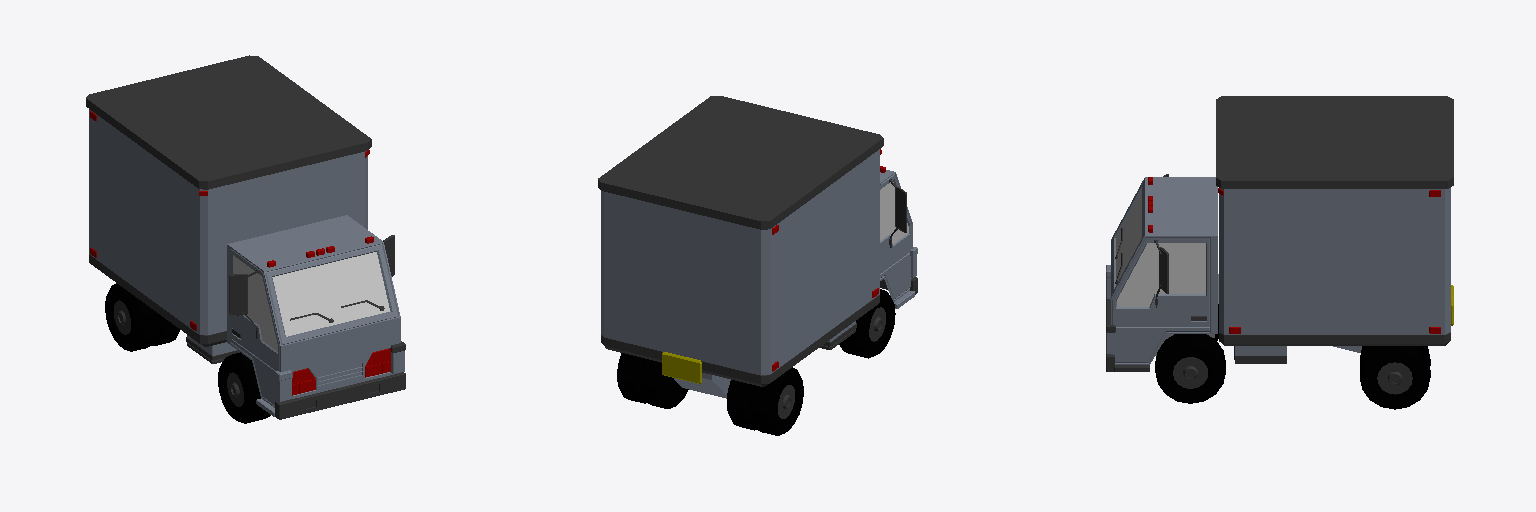
Rendered from truck.obj.
3 renders of one model, left to right at view 1: azimuth 30°, elevation 25°; view 2: azimuth 150°, elevation 25°; view 3: azimuth 270°, elevation 25°, orthographic.
Visible parts, largest first — view 1: Camion_, Llantas02, Llantas01; view 2: Camion_, Llantas02, Llantas01; view 3: Camion_, Llantas01, Llantas02.
Boxes of the visible parts, <box> form: Camion_: <box>86,55,405,419</box>; Llantas02: <box>105,283,179,351</box>; Llantas01: <box>218,352,270,423</box>; Camion_: <box>598,96,917,398</box>; Llantas02: <box>617,353,803,435</box>; Llantas01: <box>839,289,895,358</box>; Camion_: <box>1106,96,1453,371</box>; Llantas01: <box>1155,304,1225,403</box>; Llantas02: <box>1360,346,1430,409</box>.
Size of the model in its own units: 1.72 by 2.24 by 3.